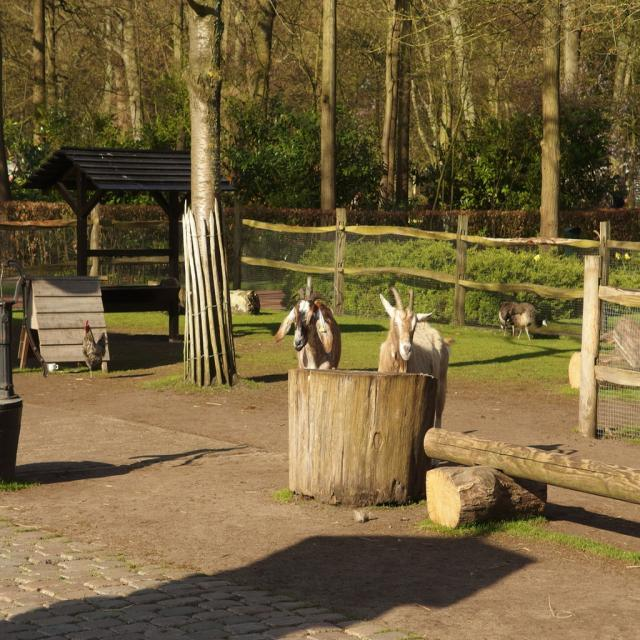Goat: (377, 285, 456, 428), (274, 275, 341, 369), (497, 300, 547, 340), (81, 320, 109, 379), (228, 288, 260, 315)
